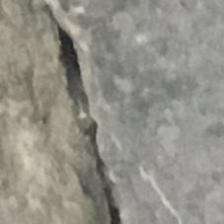Crack: (30, 0, 170, 224)
